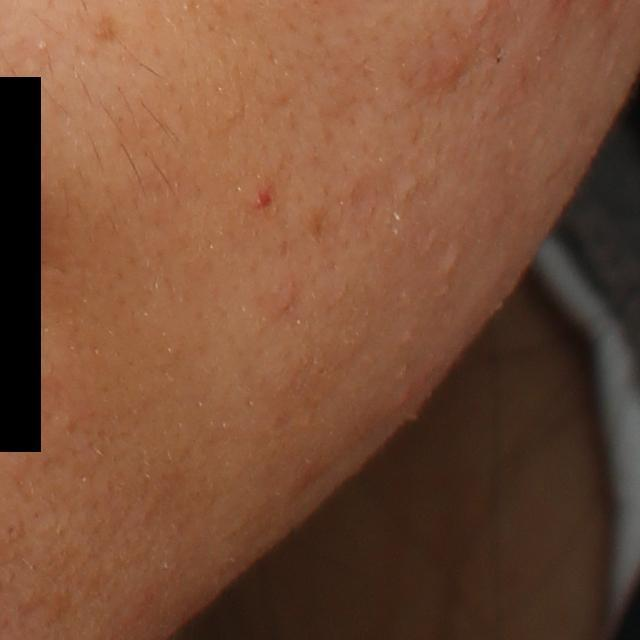comedo: (437, 249, 460, 279), (399, 179, 424, 197)
papule: (417, 49, 472, 99), (250, 185, 278, 212)
